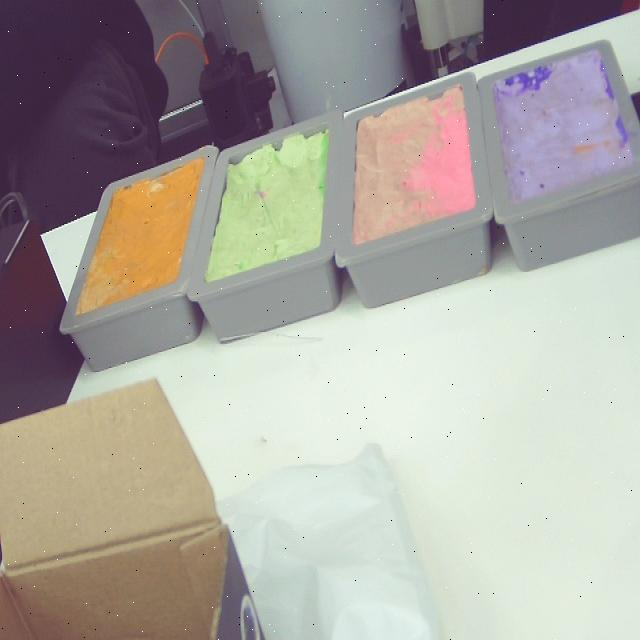block: (333, 70, 496, 310), (476, 38, 640, 272), (183, 112, 345, 344), (54, 148, 220, 372)
